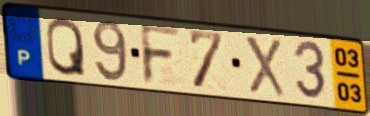3: (290, 38, 329, 104)
7: (187, 29, 226, 91)
9: (89, 19, 129, 84)
F: (137, 22, 184, 87)
Q: (44, 15, 88, 78)
X: (242, 33, 288, 100)
